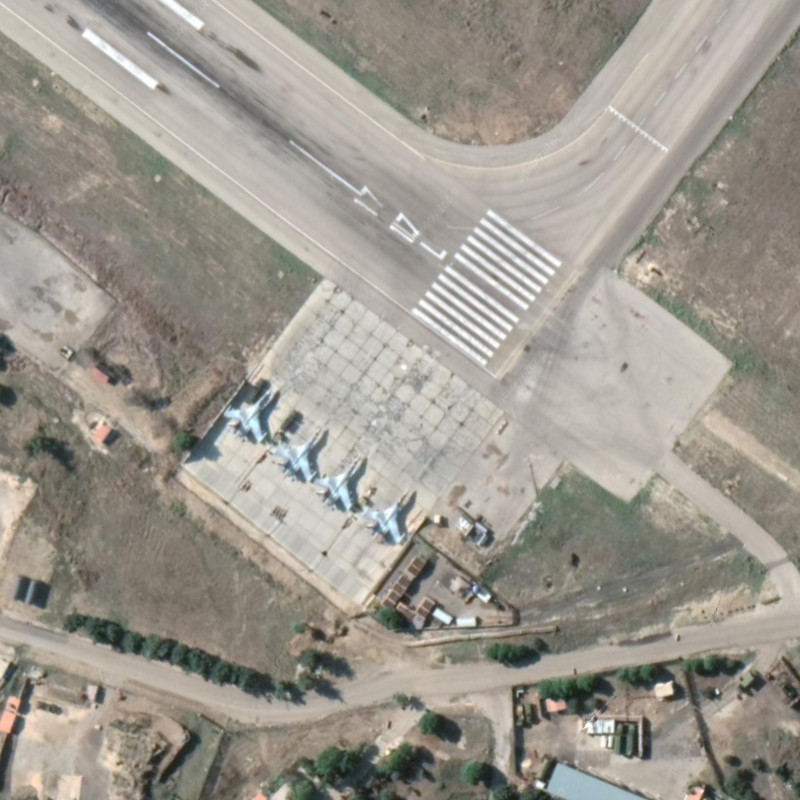A1: (217, 373, 280, 444), (365, 479, 417, 544), (319, 453, 370, 511), (272, 428, 323, 482)
